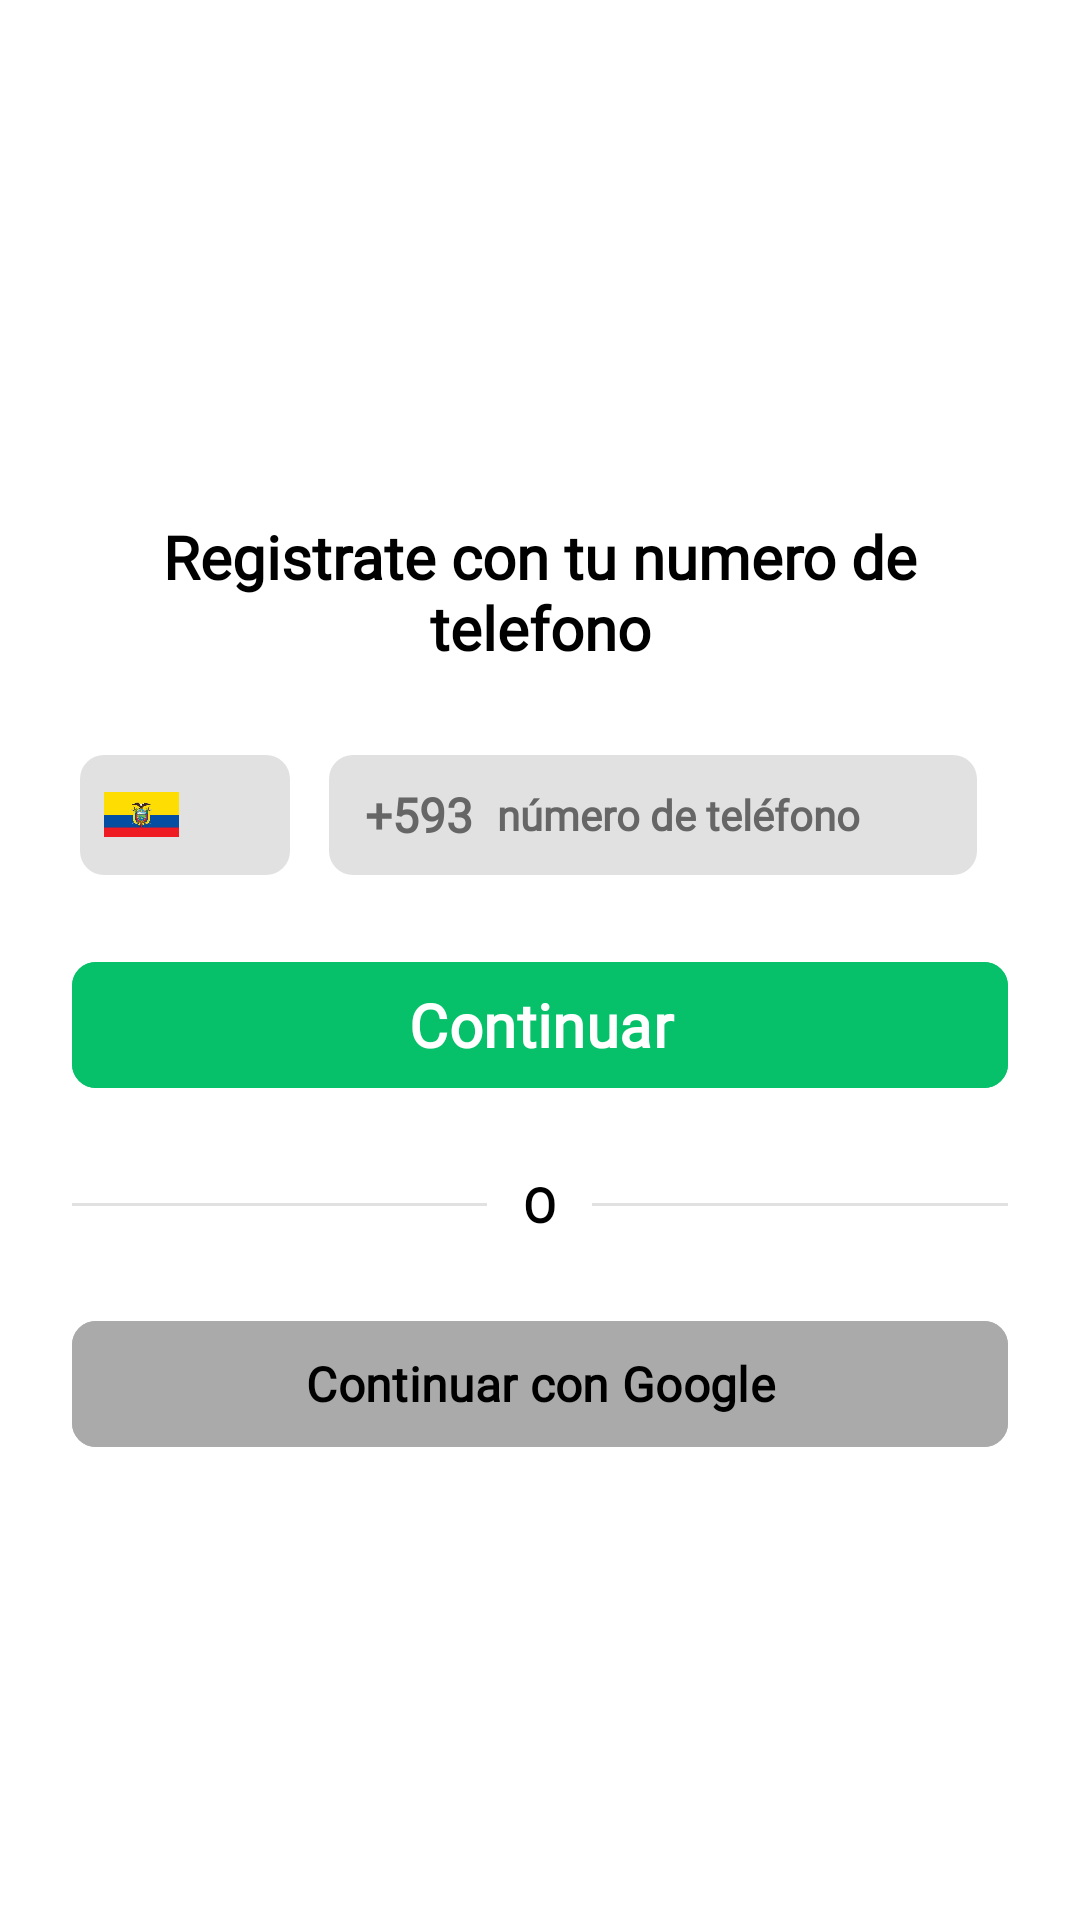

Icons on this 1080×1920 Android screen, each with its box as (x1, y1, x2, y2):
Bandera Ecuador: (104, 792, 179, 837)
